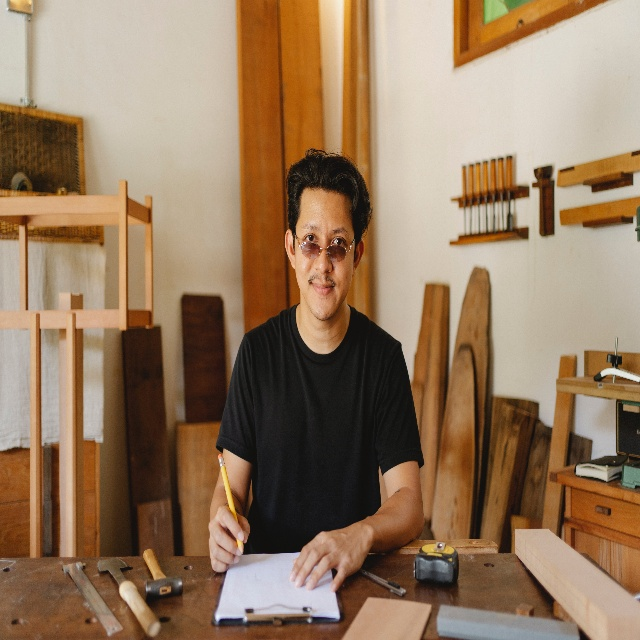Gafas: (294, 230, 355, 263)
Sin_guantes: (289, 518, 374, 593), (208, 505, 250, 572)
